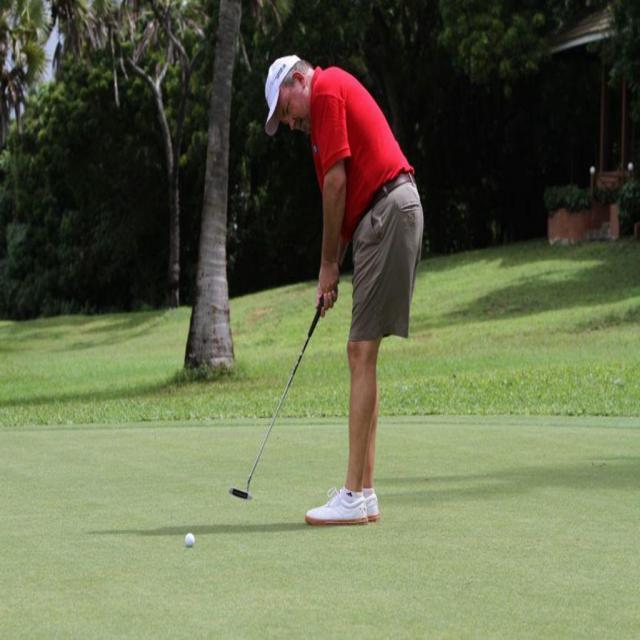ClubHead: (222, 468, 266, 509)
GolfBall: (178, 528, 202, 552)
